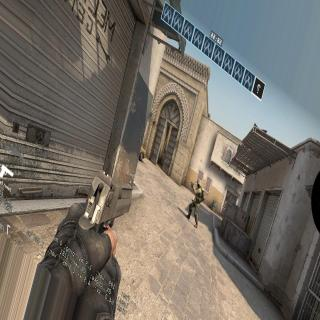CT-Body: (190, 179, 205, 220)
CT-Head: (197, 181, 200, 188)
